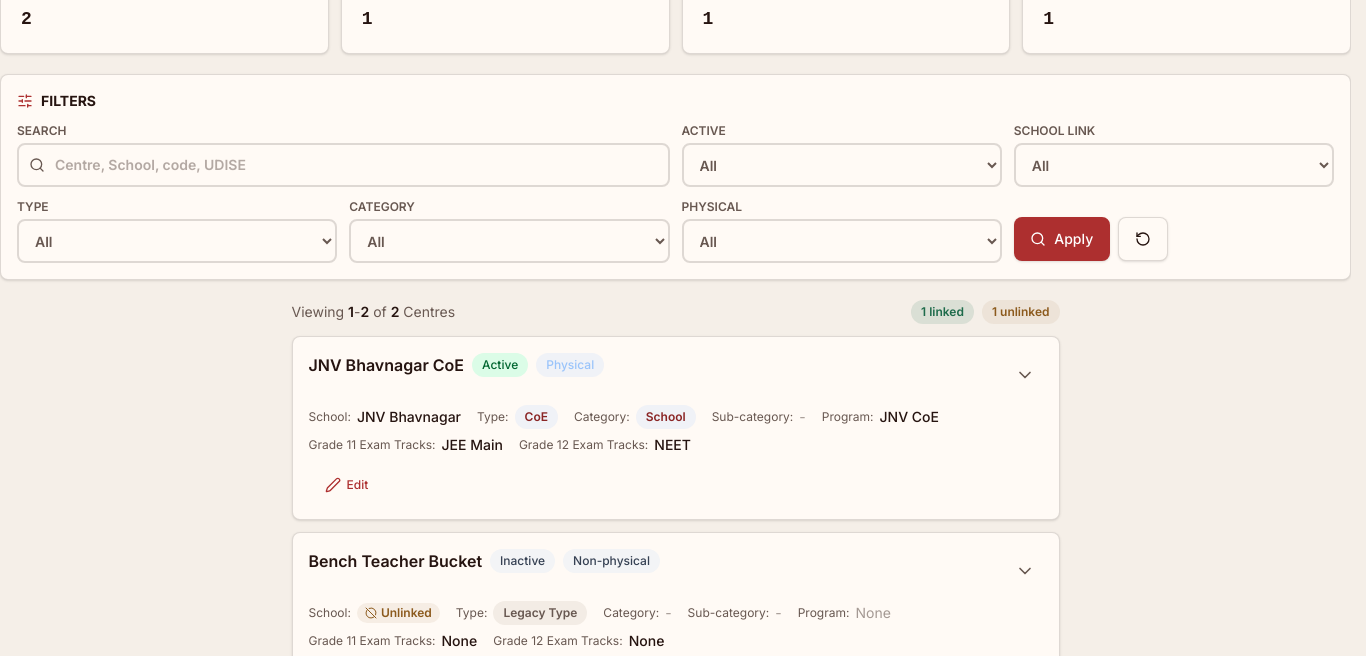
Scenario: CentreGrid › edits and deactivates a Centre without offering hard delete
The width and height of the screenshot is (1366, 656).
Click the button "Edit": (346, 485) [308, 467, 384, 503]
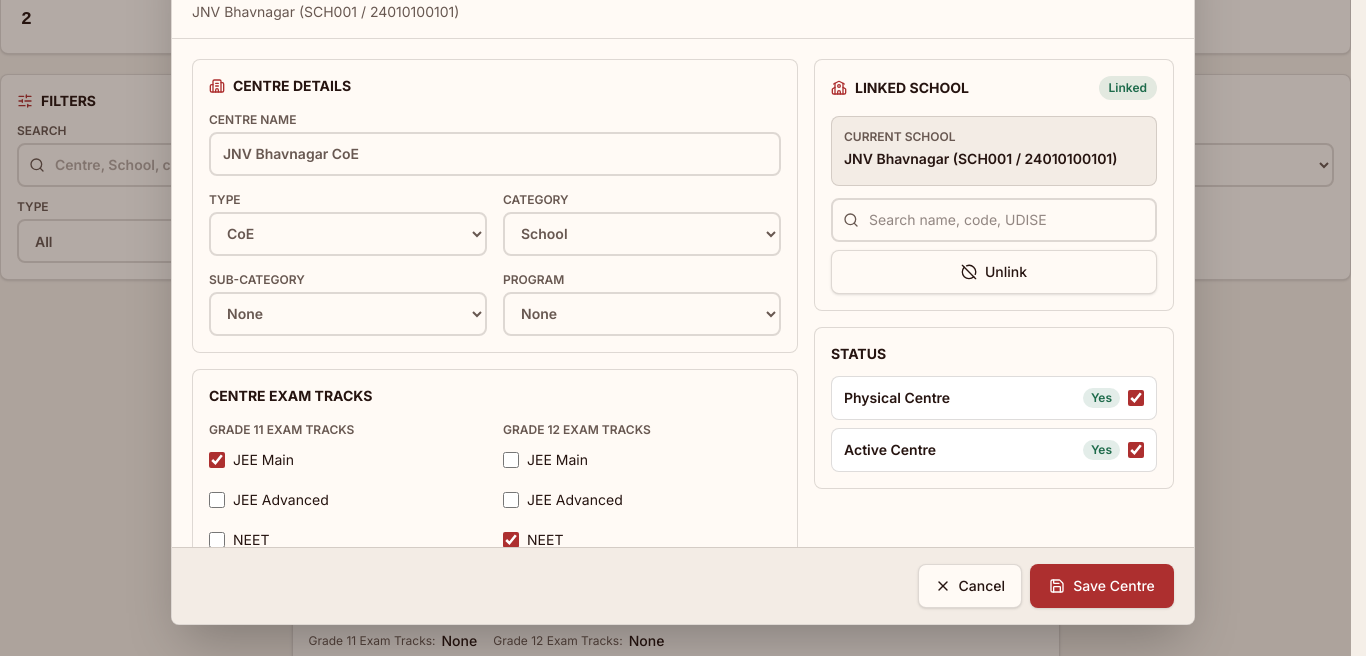
Replace the text in the field labelled "Centre name" with "JNV Bhavnagar CoE Updated": (495, 154) [209, 132, 781, 176]
Click the button "Unlink": (994, 272) [831, 250, 1157, 294]
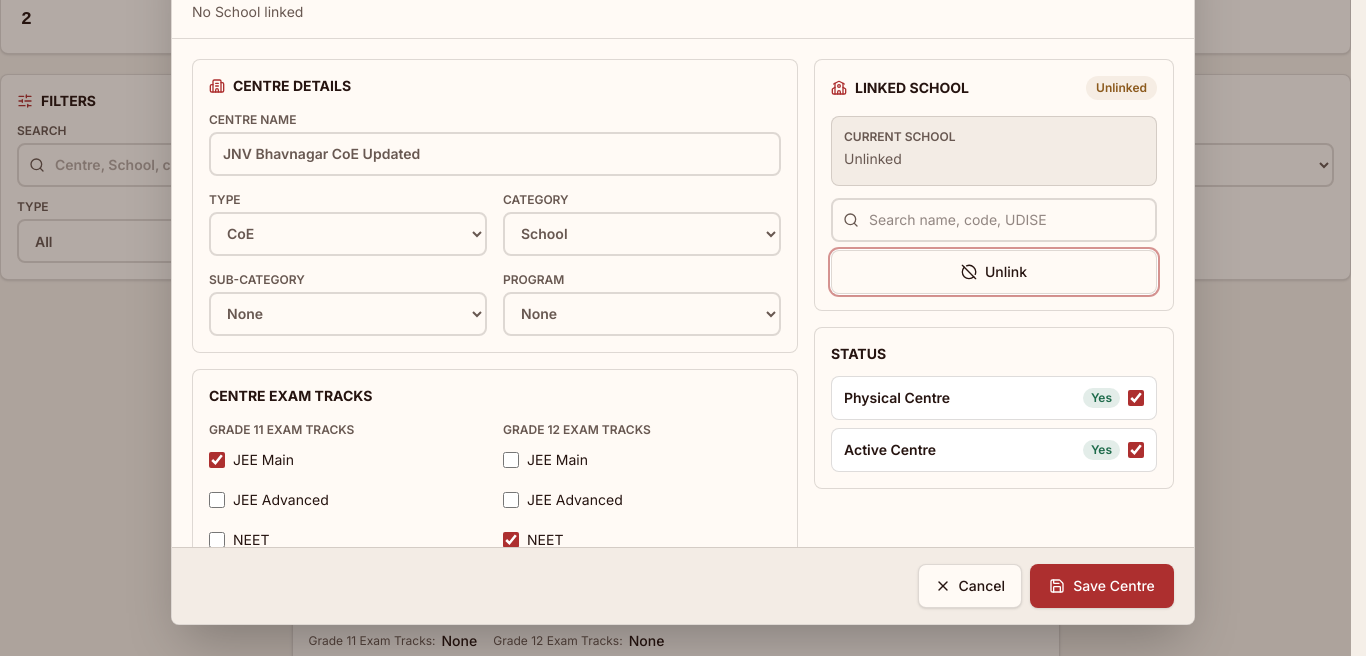
Click the checkbox named "Grade 11 JEE Main": (217, 460) [209, 452, 225, 468]
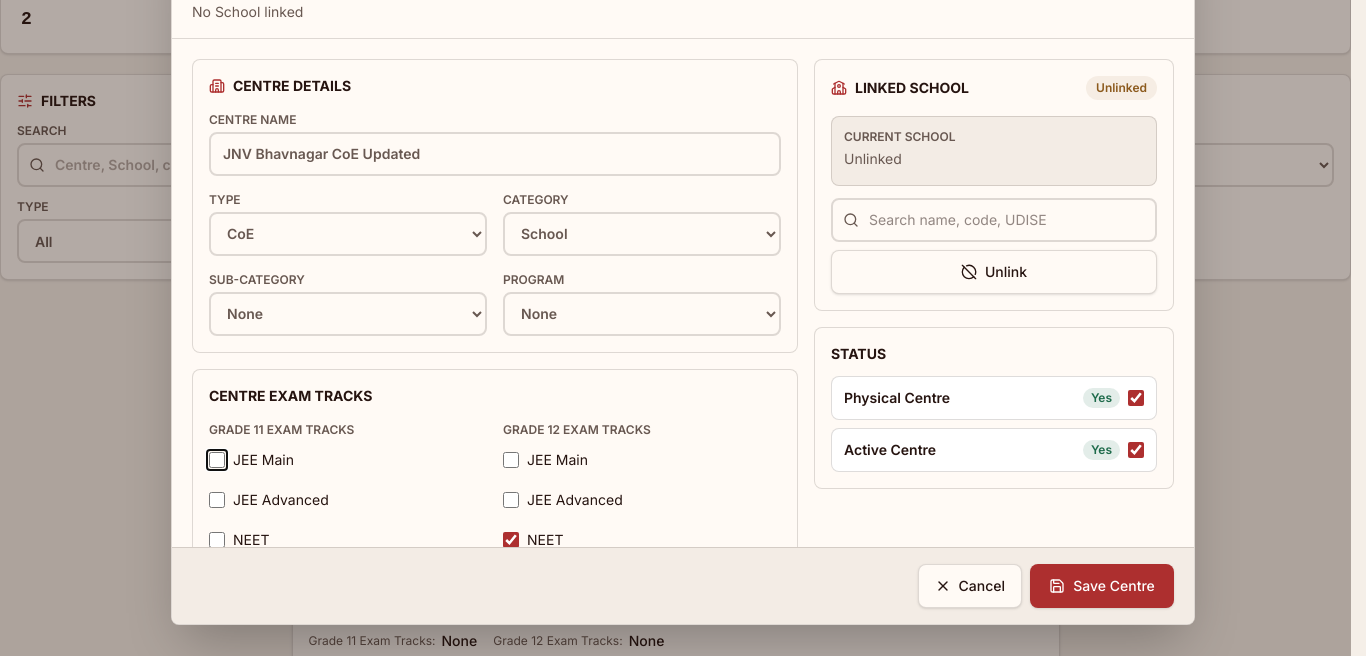
Click the checkbox labelled "Active Centre": (1136, 450) [1128, 442, 1144, 458]
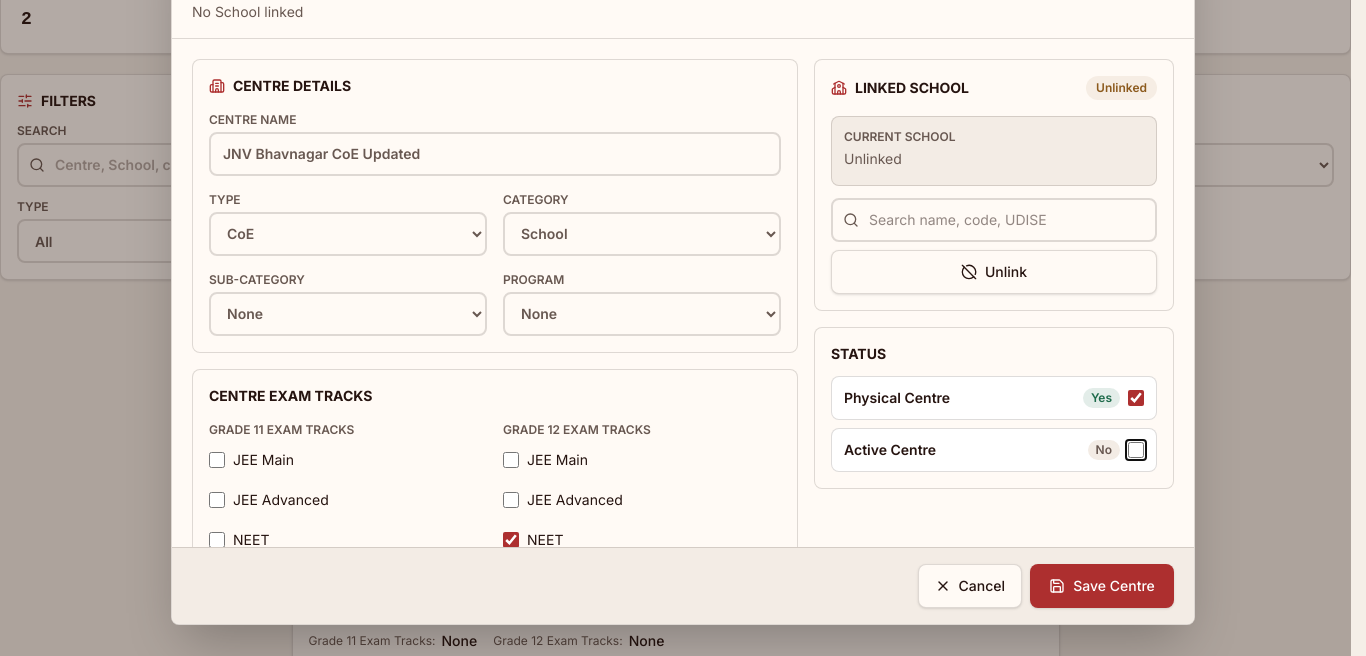
Click the button "Save Centre": (1102, 586) [1030, 564, 1174, 608]
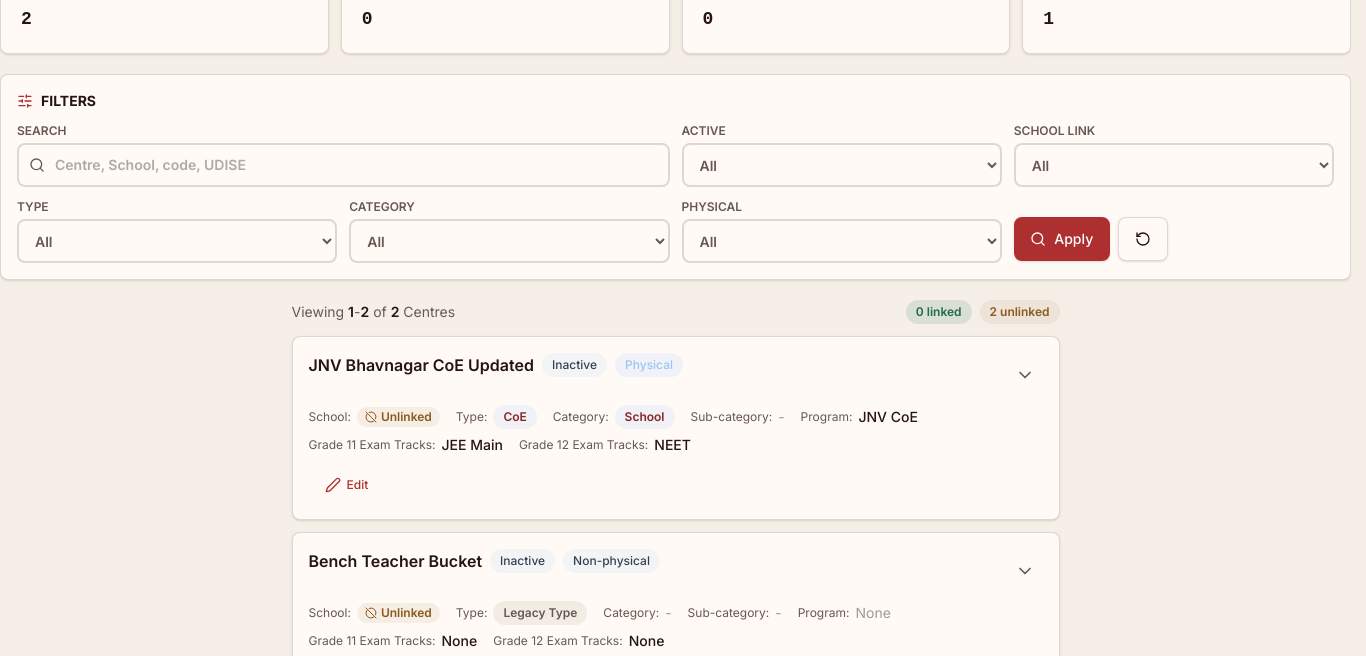
Expected: the text "Unlinked" in the row of "JNV CoE" is shown, [381, 409, 432, 424]
Expected: the text "Inactive" next to "JNV Bhavnagar CoE Updated" is shown, [552, 357, 597, 372]
Click the button named "Show details for JNV Bhavnagar CoE Updated": (1024, 375) [1006, 353, 1042, 397]
(page scrolled)
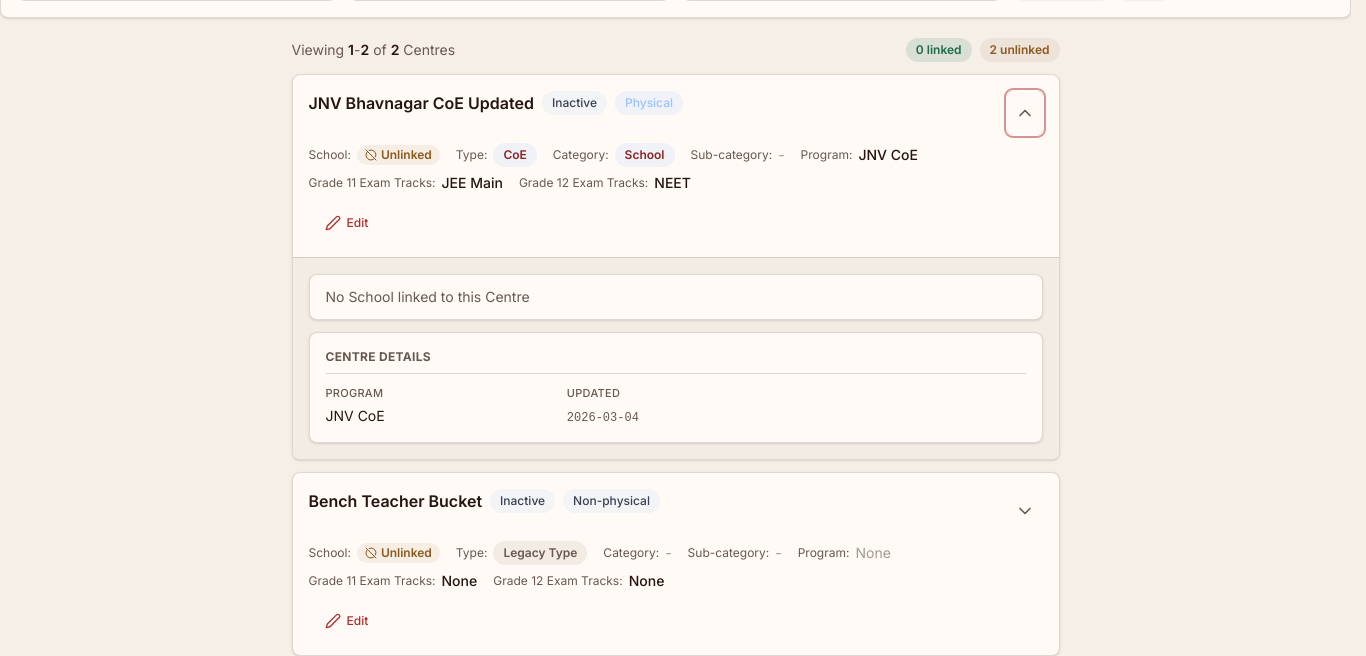
Expected: the text "2026-03-04" is shown, [567, 411, 639, 425]
